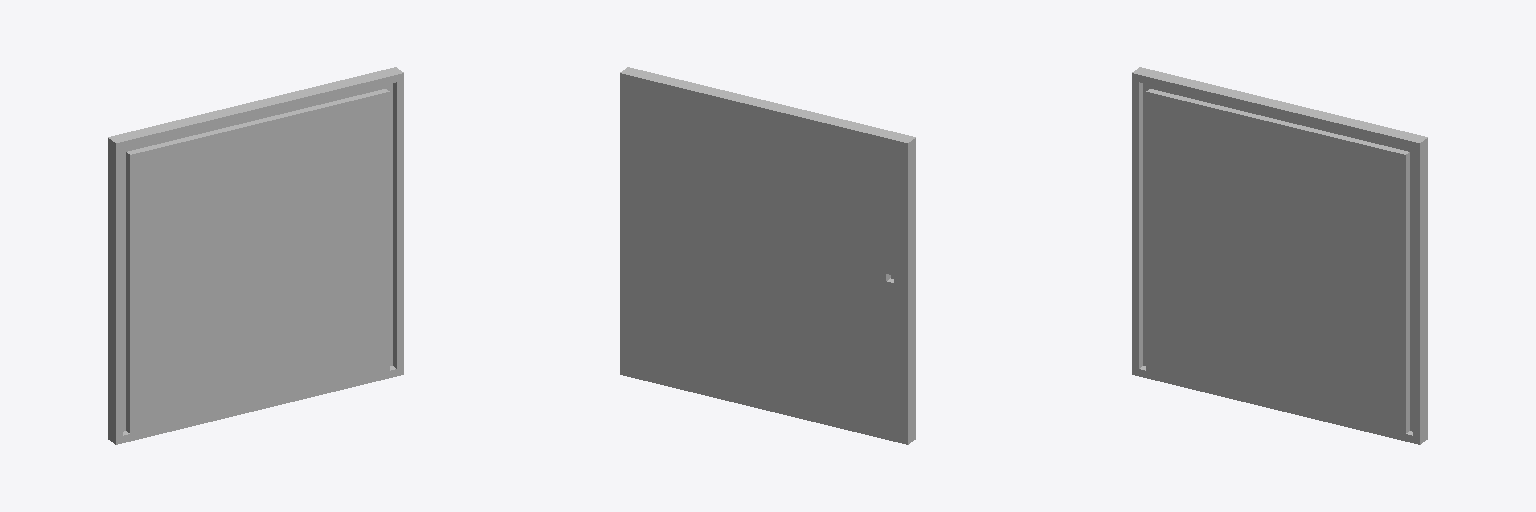
File: Title.obj
3 renders of one model, left to right at view 1: azimuth 30°, elevation 25°; view 2: azimuth 150°, elevation 25°; view 3: azimuth 330°, elevation 25°, orthographic.
Visible parts, largest first — view 1: object 1; view 2: object 1; view 3: object 1.
Part boxes in pixels (left/top/right/bottom): object 1: left=108, top=67, right=403, bottom=444; object 1: left=620, top=67, right=915, bottom=444; object 1: left=1132, top=67, right=1427, bottom=444.
Bounding box in the file's own units: 4 × 4 × 0.2.